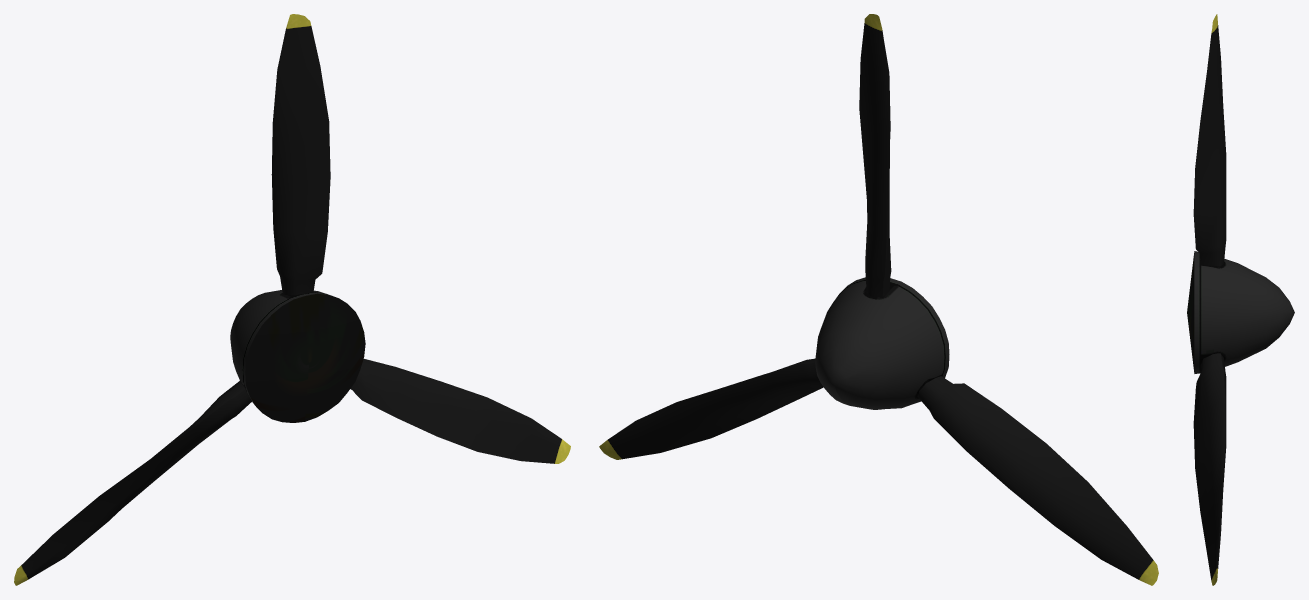
File: Propeller.gltf
The picture shows the model from 3 angles, left to right: view 1: azimuth 30°, elevation 25°; view 2: azimuth 150°, elevation 25°; view 3: azimuth 270°, elevation 25°; orthographic projection. The views are drawn at different scales.
Parts seen in each view (by area): view 1: Propeller; view 2: Propeller; view 3: Propeller.
Boxes of the visible parts, bbox=[...] form: Propeller: bbox=[14, 14, 570, 585]; Propeller: bbox=[599, 14, 1158, 585]; Propeller: bbox=[1187, 14, 1294, 585].
Size of the model in its own units: 3.1 by 2.72 by 0.584.
Materials: 1 (1 with a texture image).
